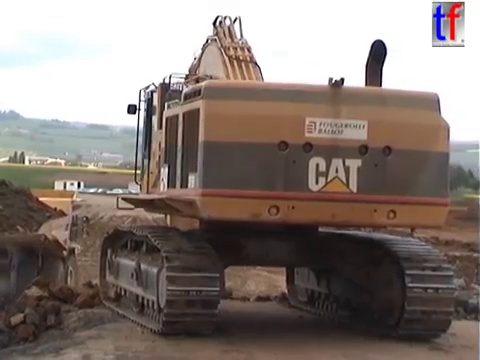excavator: (93, 10, 460, 345)
truck: (1, 183, 92, 324)
